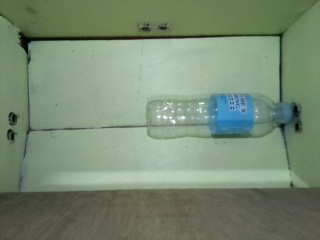bottle: (145, 91, 293, 139)
